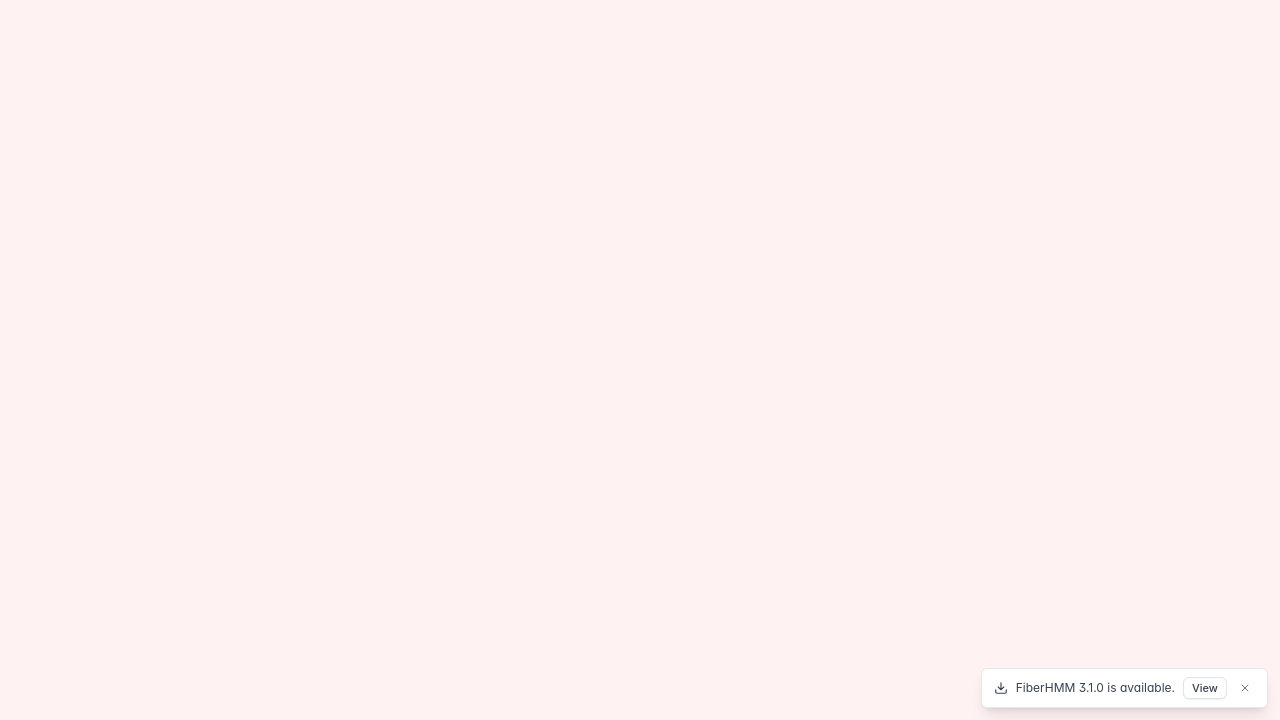
Test: independent FiberHMM updates › announces a FiberHMM release even when FiberBrowser is current, and renders installing then needs-app-update
Later steps or results of the test are not shown.
Click the button "View".
click(1205, 688)  # box [1183, 677, 1227, 699]
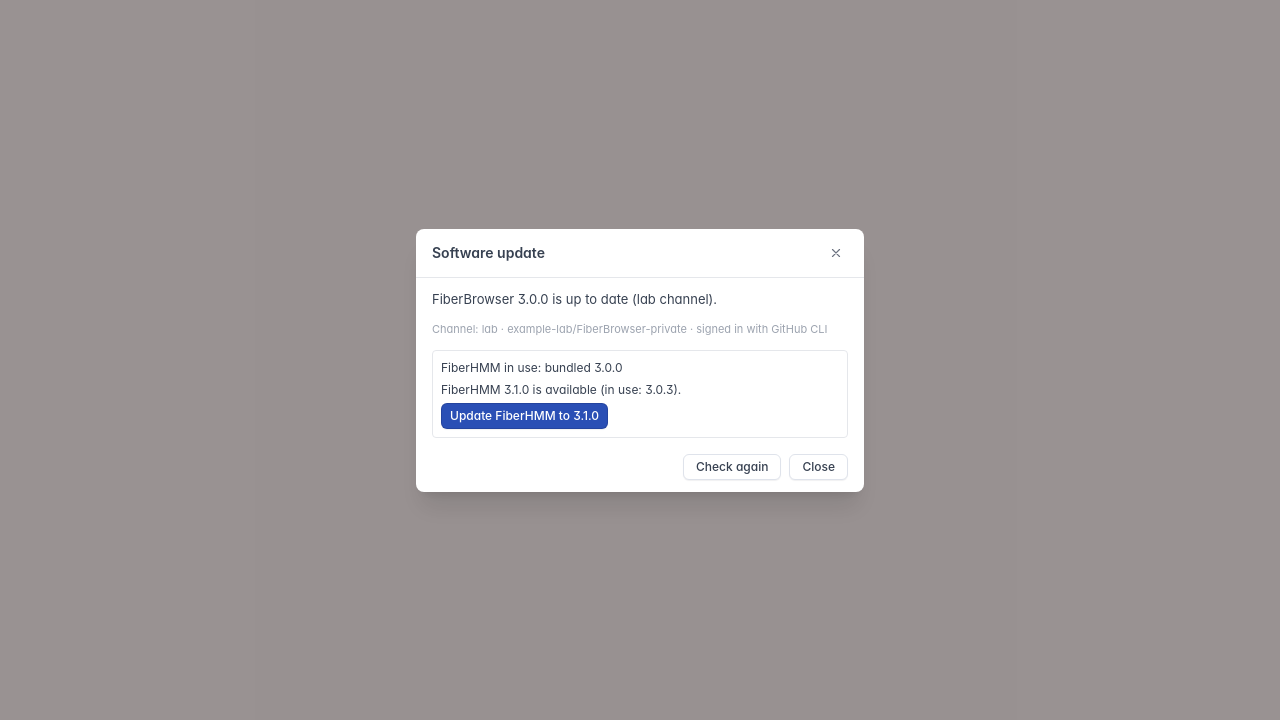
Expected: the button "Update FiberHMM to 3.1.0" is shown, [441, 402, 608, 428]
